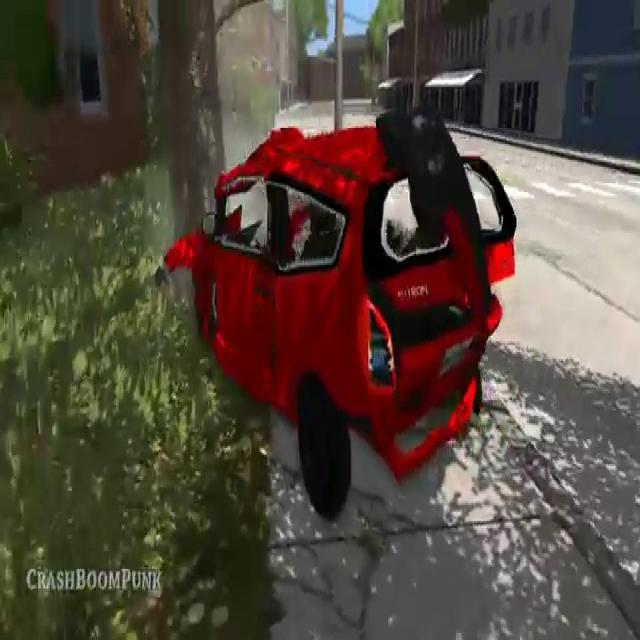accident: (161, 96, 522, 530)
